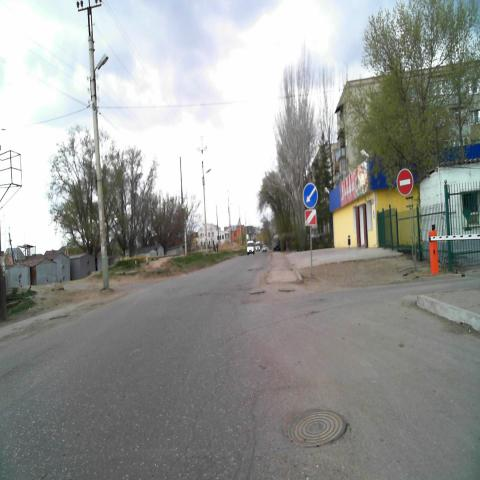3_1: (396, 168, 414, 197)
4_2_2: (302, 182, 318, 210)
